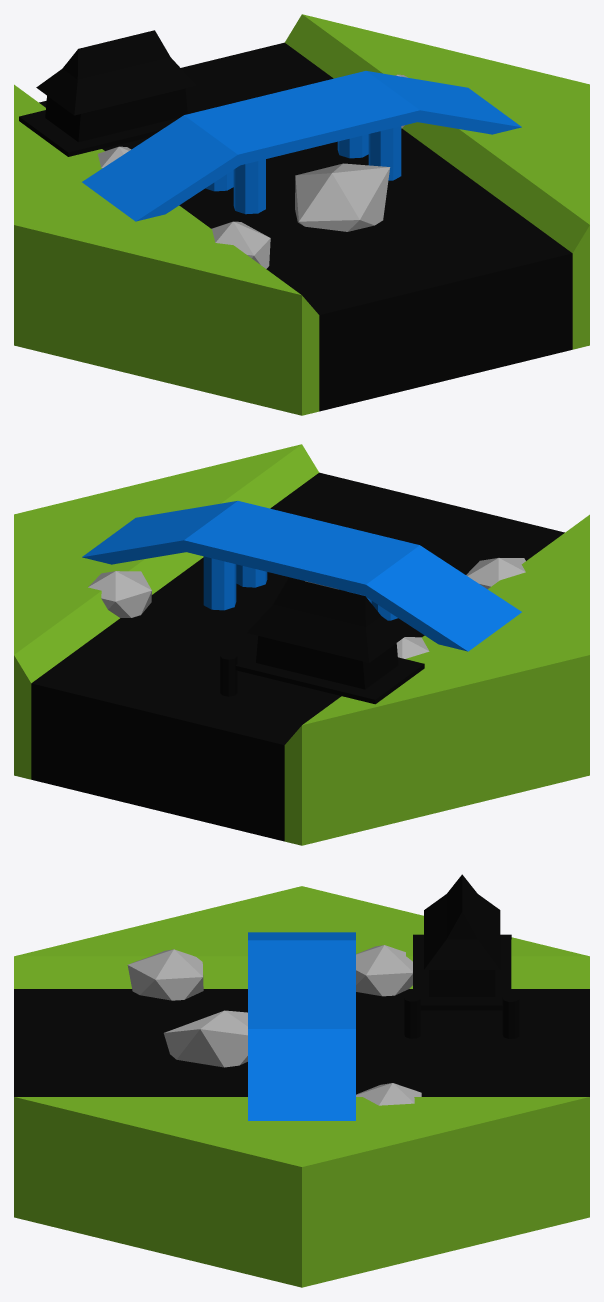
Rendered from Rio_2.fbx.
The picture shows the model from 3 angles, top to bottom: view 1: azimuth 30°, elevation 25°; view 2: azimuth 150°, elevation 25°; view 3: azimuth 270°, elevation 25°; orthographic projection.
Visible parts, largest first — view 1: Rio_2; view 2: Rio_2; view 3: Rio_2.
Part boxes in pixels (x1,y1,x2,y2): Rio_2: [14, 14, 589, 415]; Rio_2: [14, 444, 589, 845]; Rio_2: [14, 874, 589, 1287].
Size of the model in its own units: 200 by 67.29 by 173.
